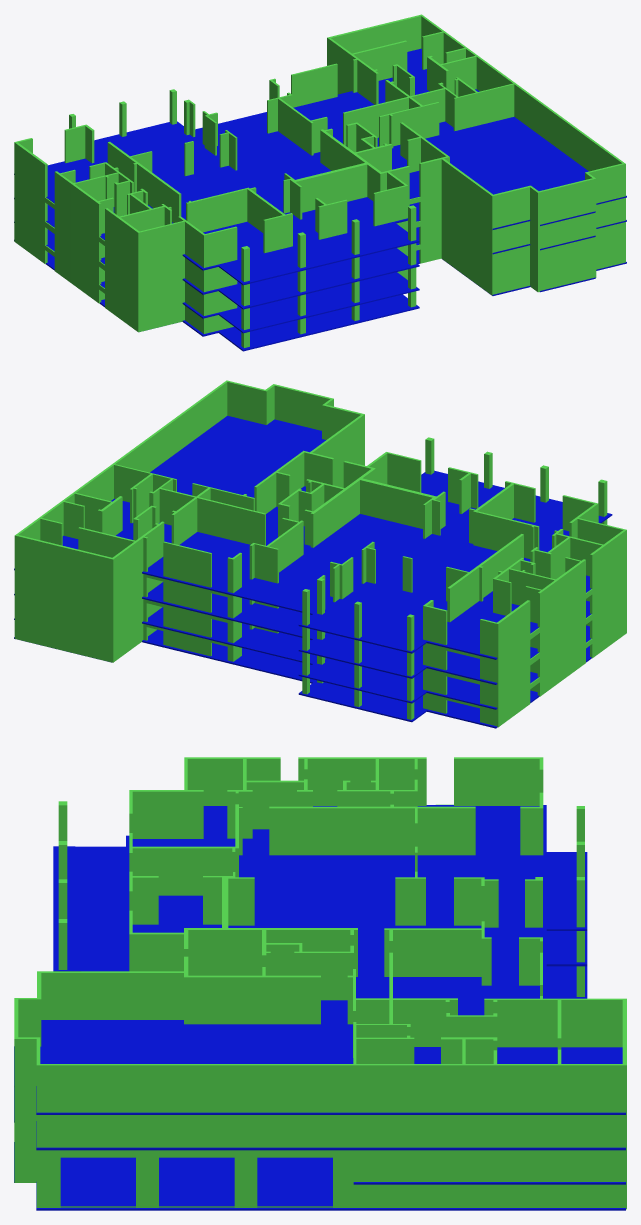
Rendered from Jokers Mansion.fbx.
3 views of the same model, one above another, from view 1: azimuth 30°, elevation 25°; view 2: azimuth 150°, elevation 25°; view 3: azimuth 270°, elevation 25° (orthographic). The views are drawn at different scales.
Visible parts, largest first — view 1: Plane.001, Plane.005, Plane.004, Plane.002, EGFloor; view 2: Plane.001, Plane.005, Plane.004, Plane.002, EGFloor; view 3: Plane.001, Plane.005, EGFloor, Plane.004, Plane.002.
Part boxes in pixels (box(x1,y1,x2,y2)): Plane.001: box(14, 14, 625, 347); Plane.005: box(14, 48, 626, 285); Plane.004: box(14, 198, 626, 309); Plane.002: box(14, 222, 419, 333); EGFloor: box(14, 240, 626, 351); Plane.001: box(14, 380, 626, 727); Plane.005: box(14, 415, 612, 659); Plane.004: box(14, 582, 591, 684); Plane.002: box(14, 607, 590, 709); EGFloor: box(14, 629, 591, 728); Plane.001: box(14, 757, 626, 1209); Plane.005: box(14, 805, 625, 1114); EGFloor: box(14, 1142, 625, 1210); Plane.004: box(14, 931, 625, 1150); Plane.002: box(353, 966, 625, 1184).
Bounding box in the file's own units: 9459 × 2064 × 7932.
